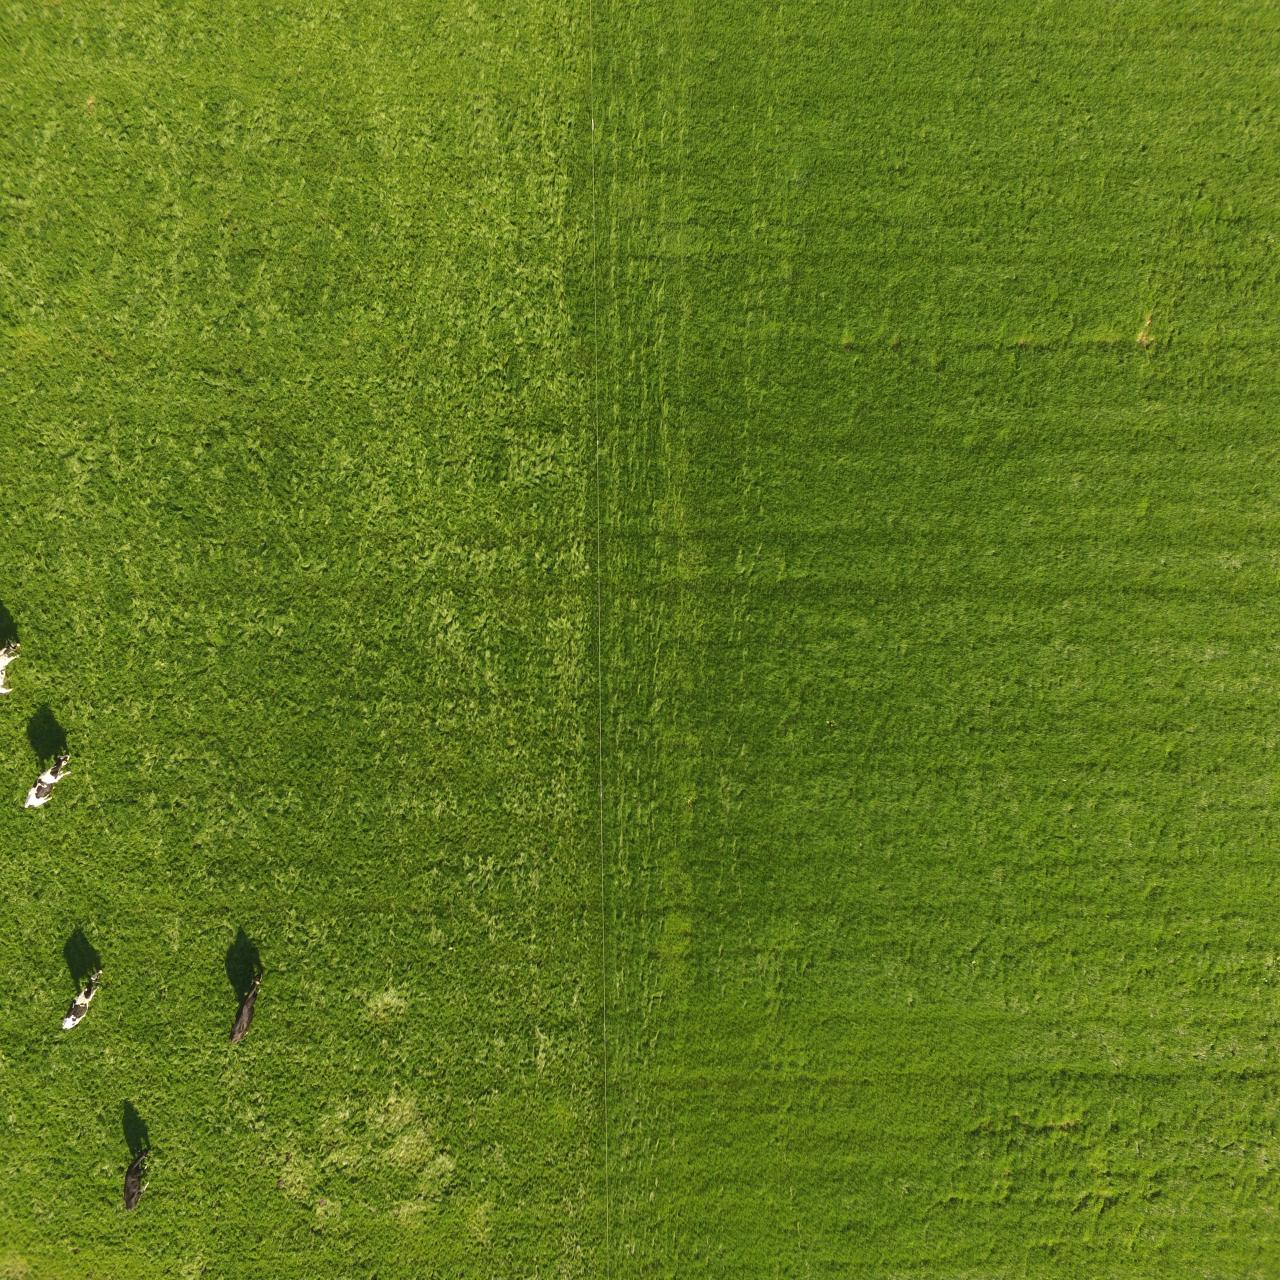cow: (227, 972, 267, 1062), (23, 749, 72, 816), (63, 969, 105, 1043), (118, 1145, 158, 1217)
